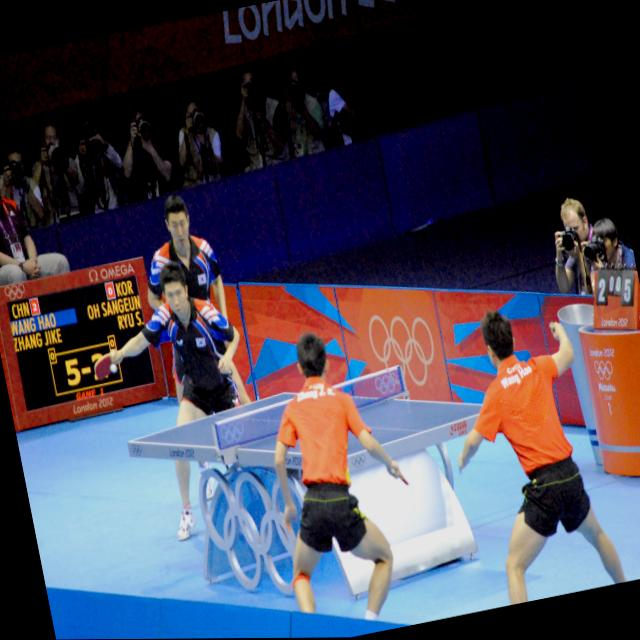TT Net: (210, 363, 410, 456)
TT Racket: (92, 351, 114, 384), (548, 320, 560, 342), (398, 470, 410, 486)
TT Table: (129, 391, 503, 460)
